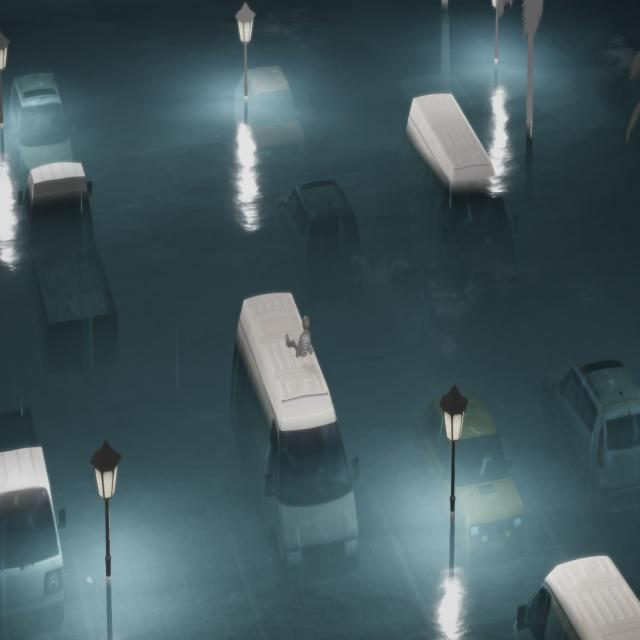Human: (284, 307, 316, 365)
